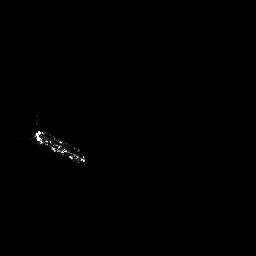ship: (28, 125, 91, 169)
